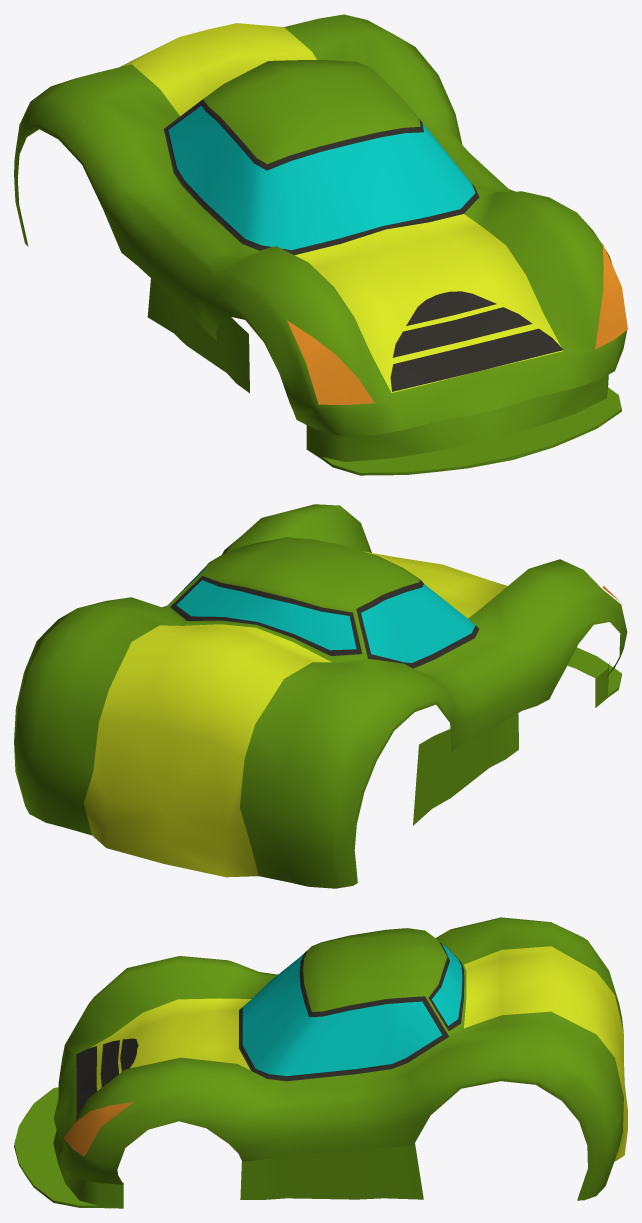
File: LuxCasing01R03.gltf
The picture shows the model from 3 angles, top to bottom: view 1: azimuth 30°, elevation 25°; view 2: azimuth 150°, elevation 25°; view 3: azimuth 270°, elevation 25°; orthographic projection. The views are drawn at different scales.
Parts seen in each view (by area): view 1: LuxCasing01R03; view 2: LuxCasing01R03; view 3: LuxCasing01R03.
Boxes of the visible parts, left/top/right/bottom form: LuxCasing01R03: left=14, top=14, right=627, bottom=475; LuxCasing01R03: left=14, top=504, right=627, bottom=888; LuxCasing01R03: left=14, top=917, right=627, bottom=1208.
Bounding box in the file's own units: 0.2129 × 0.1281 × 0.3597.
Materials: 1 (1 with a texture image).
